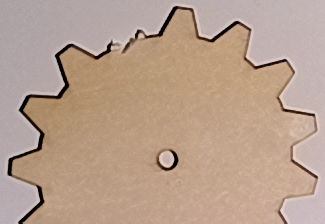Missing: (97, 21, 150, 56)
